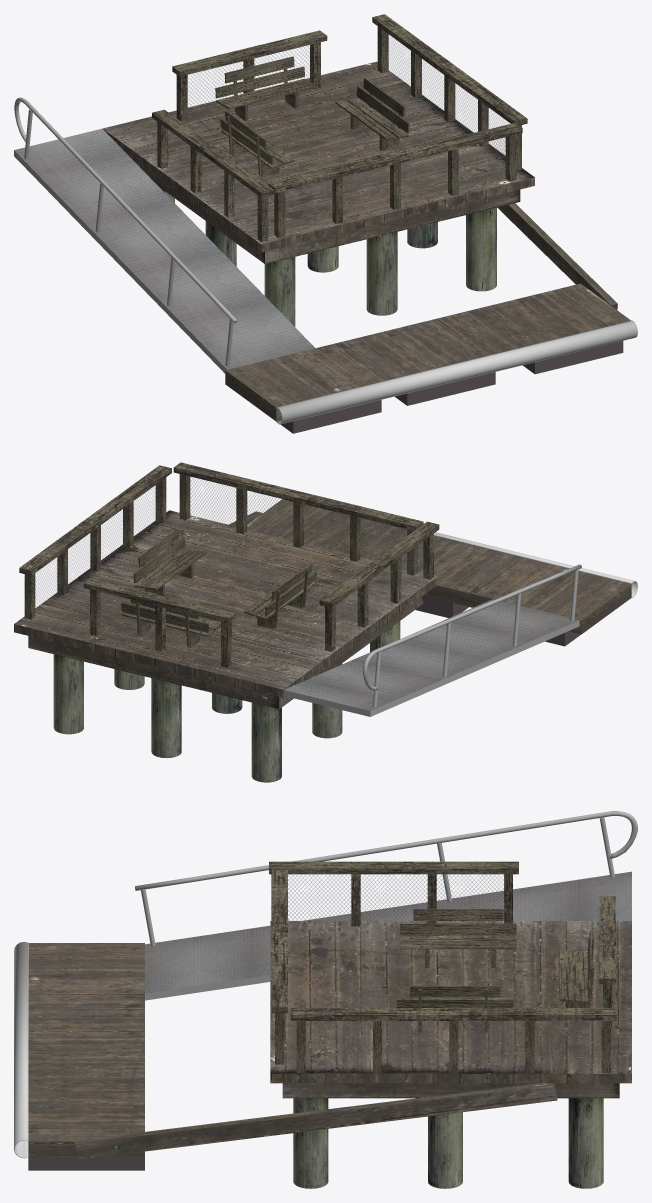
Rendered from docks.glb.
3 renders of one model, top to bottom at view 1: azimuth 30°, elevation 25°; view 2: azimuth 150°, elevation 25°; view 3: azimuth 270°, elevation 25°, orthographic. The views are drawn at different scales.
Visible parts, largest first — view 1: base, Dock, down ramp, Dock Wood Railing, Dock Wood Railing.001, Dock Wood Railing.002, Dock Wood Railing.003, bench, bench.001, Metal Railing, pillar.003, pillar (+5 smaller); view 2: base, Dock, down ramp, Dock Wood Railing, Dock Wood Railing.001, Dock Wood Railing.003, Dock Wood Railing.002, bench.001, pillar.008, pillar.002, pillar.005, Metal Railing (+5 smaller); view 3: base, Dock, down ramp, Dock Wood Railing.001, Dock Wood Railing.002, bench.002, Metal Railing, pillar.002, Dock Wood Railing, pillar.001, pillar, bench.001 (+2 smaller).
Part boxes in pixels (x1,y1,x2,y2): base: [102, 61, 534, 263]; Dock: [225, 203, 637, 433]; down ramp: [14, 128, 314, 373]; Dock Wood Railing: [268, 122, 522, 237]; Dock Wood Railing.001: [372, 14, 527, 170]; Dock Wood Railing.002: [152, 109, 273, 241]; Dock Wood Railing.003: [172, 30, 327, 121]; bench: [215, 56, 317, 120]; bench.001: [335, 78, 409, 150]; Metal Railing: [14, 97, 237, 366]; pillar.003: [366, 232, 397, 315]; pillar: [466, 207, 496, 291]; base: [14, 510, 438, 709]; Dock: [229, 499, 637, 646]; down ramp: [283, 599, 579, 716]; Dock Wood Railing: [173, 462, 423, 575]; Dock Wood Railing.001: [19, 465, 171, 619]; Dock Wood Railing.003: [83, 578, 235, 667]; Dock Wood Railing.002: [319, 521, 439, 651]; bench.001: [133, 529, 206, 595]; pillar.008: [251, 702, 281, 782]; pillar.002: [53, 654, 83, 734]; pillar.005: [151, 678, 181, 757]; Metal Railing: [363, 564, 581, 706]; base: [270, 921, 631, 1098]; Dock: [14, 942, 557, 1170]; down ramp: [145, 871, 631, 1000]; Dock Wood Railing.001: [290, 1008, 616, 1072]; Dock Wood Railing.002: [269, 861, 518, 926]; bench.002: [400, 909, 516, 967]; Metal Railing: [135, 811, 637, 946]; pillar.002: [568, 1098, 603, 1188]; Dock Wood Railing: [271, 870, 287, 1064]; pillar.001: [428, 1112, 462, 1188]; pillar: [293, 1098, 328, 1188]; bench.001: [397, 985, 513, 1032].
Size of the model in its own units: 9.38 by 4.07 by 12.12.
9 materials, 6 textured.
